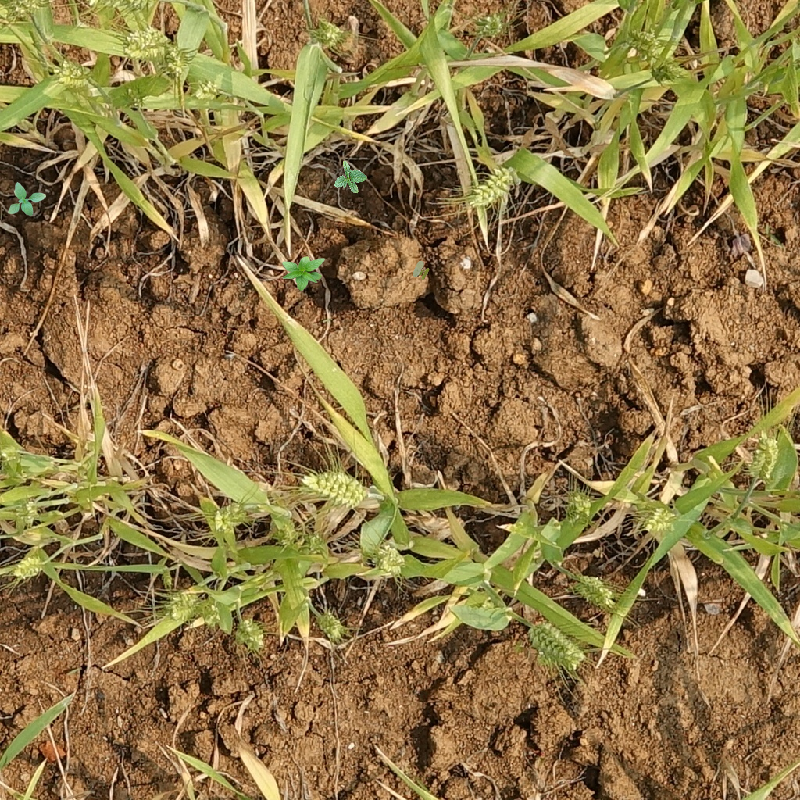spikelet: (527, 621, 585, 670), (300, 467, 369, 508), (465, 164, 519, 210), (121, 25, 175, 65), (51, 56, 100, 96), (746, 431, 781, 483), (628, 27, 673, 67), (209, 499, 251, 533), (575, 573, 616, 607), (371, 539, 406, 577), (563, 489, 595, 528), (234, 616, 267, 652), (308, 18, 345, 49), (160, 42, 190, 80), (315, 607, 347, 642), (11, 550, 47, 581), (166, 587, 199, 620), (643, 503, 677, 535), (473, 10, 508, 40), (1, 1, 43, 25), (189, 75, 223, 104), (13, 496, 40, 527)
weed: (326, 155, 371, 200), (282, 256, 325, 291), (8, 182, 46, 216), (409, 259, 433, 284)
